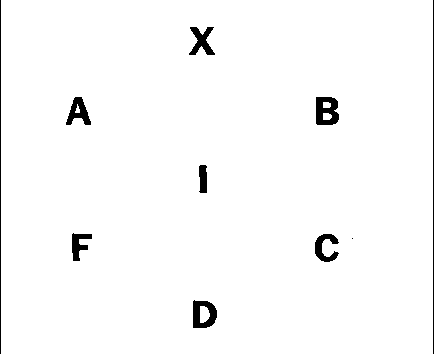I: (194, 157, 215, 203)
